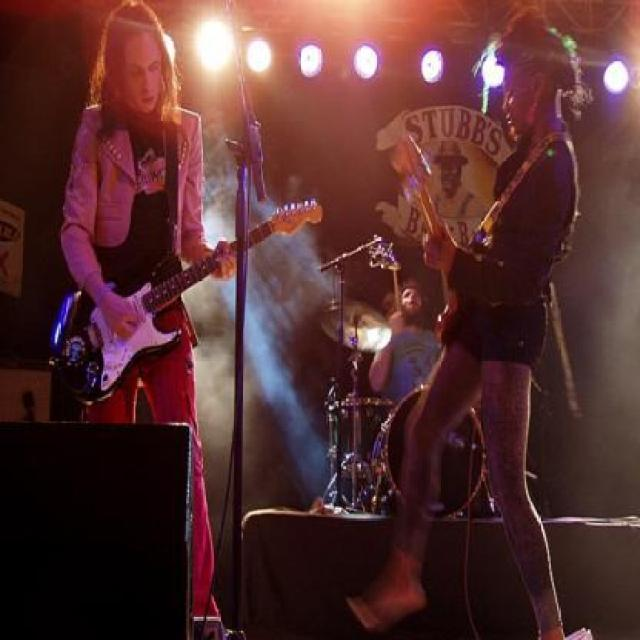Person: (346, 0, 587, 638), (60, 0, 238, 622), (368, 278, 444, 513)
